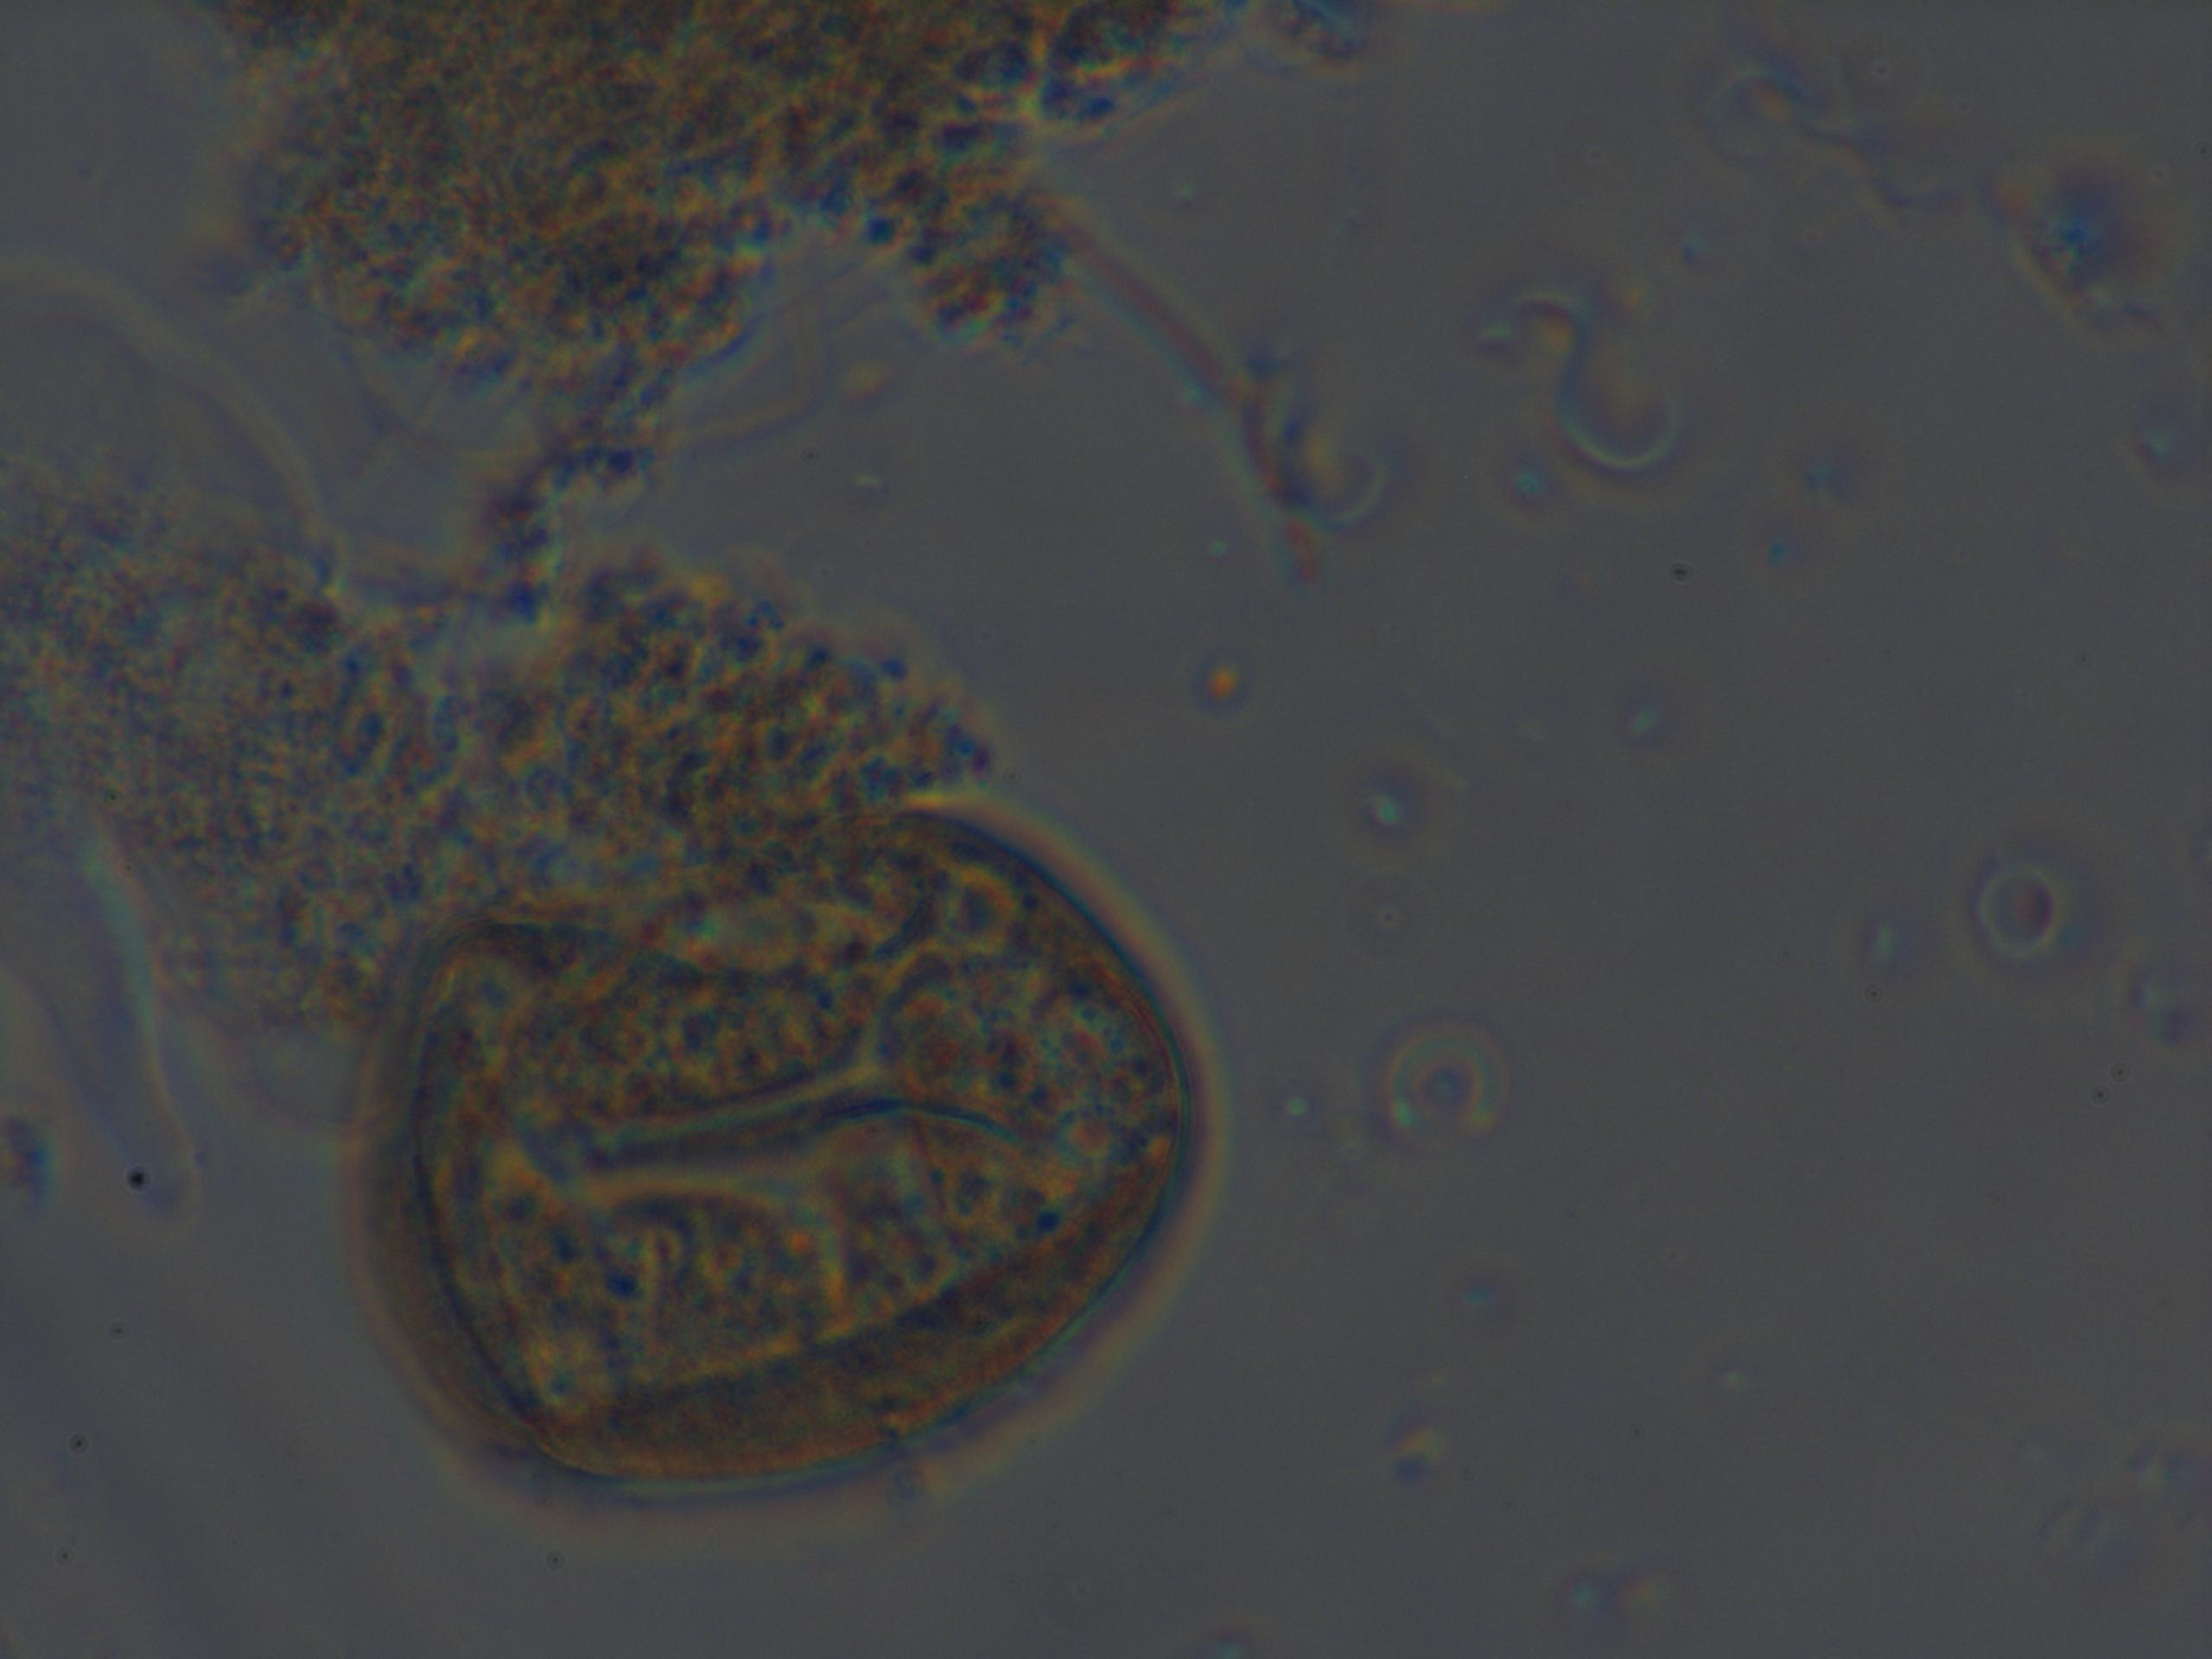filament: (1010, 190, 1230, 411), (428, 394, 639, 592)
